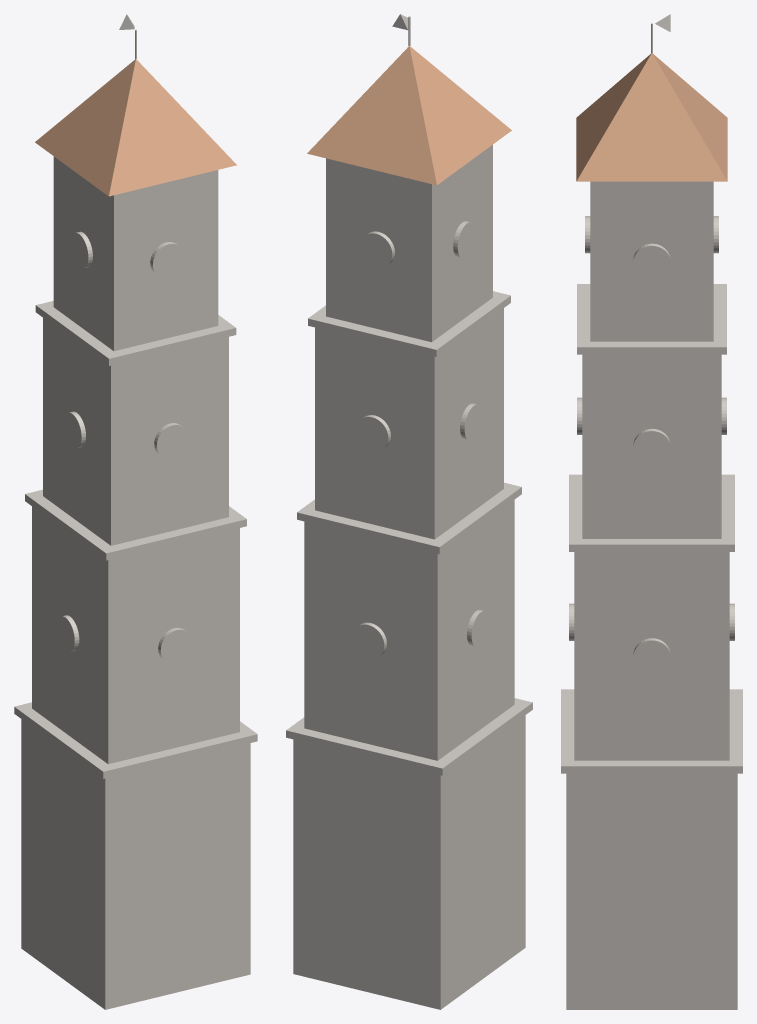
3 views of the same model, side by side, from view 1: azimuth 30°, elevation 25°; view 2: azimuth 150°, elevation 25°; view 3: azimuth 270°, elevation 25° (orthographic). The views are drawn at different scales.
Parts seen in each view (by area): view 1: Livello_1, Livello_2, Livello_3, Livello_4, Tetto_Padiglione, Marcapiano_1, Marcapiano_2, Marcapiano_3, Monofora_L3_4, Monofora_L4_4, Monofora_L2_4, Monofora_L2_3 (+2 smaller); view 2: Livello_1, Livello_2, Livello_3, Livello_4, Tetto_Padiglione, Marcapiano_1, Marcapiano_2, Marcapiano_3, Monofora_L4_2, Monofora_L2_2, Monofora_L3_2, Monofora_L4_3 (+2 smaller); view 3: Livello_1, Livello_2, Livello_3, Livello_4, Tetto_Padiglione, Marcapiano_1, Marcapiano_2, Marcapiano_3, Monofora_L4_1, Monofora_L2_1, Monofora_L3_1.
Boxes of the visible parts, x1,y1,x2,y2 form: Livello_1: (21, 719, 250, 1009); Livello_2: (32, 506, 239, 764); Livello_3: (43, 318, 228, 545); Livello_4: (53, 156, 218, 351); Tetto_Padiglione: (35, 59, 236, 196); Marcapiano_1: (14, 702, 257, 778); Marcapiano_2: (25, 489, 246, 560); Marcapiano_3: (35, 301, 236, 365); Monofora_L3_4: (154, 423, 188, 458); Monofora_L4_4: (150, 242, 184, 277); Monofora_L2_4: (158, 628, 192, 663); Monofora_L2_3: (56, 615, 79, 651); Livello_1: (293, 715, 525, 1009); Livello_2: (304, 500, 514, 760); Livello_3: (315, 308, 503, 539); Livello_4: (326, 145, 492, 342); Tetto_Padiglione: (307, 46, 511, 185); Marcapiano_1: (286, 698, 532, 775); Marcapiano_2: (297, 482, 521, 554); Marcapiano_3: (308, 291, 510, 356); Monofora_L4_2: (360, 231, 394, 267); Monofora_L2_2: (352, 622, 386, 658); Monofora_L3_2: (356, 415, 390, 451); Monofora_L4_3: (453, 221, 476, 258); Livello_1: (566, 773, 737, 1009); Livello_2: (574, 552, 729, 760); Livello_3: (582, 354, 721, 538); Livello_4: (590, 181, 713, 341); Tetto_Padiglione: (576, 53, 727, 181); Marcapiano_1: (561, 689, 742, 773); Marcapiano_2: (569, 474, 734, 551); Marcapiano_3: (577, 284, 726, 354); Monofora_L4_1: (633, 243, 670, 279); Monofora_L2_1: (633, 638, 670, 674); Monofora_L3_1: (633, 428, 670, 464).
Size of the model in its own units: 3.4 by 19.8 by 3.4.
